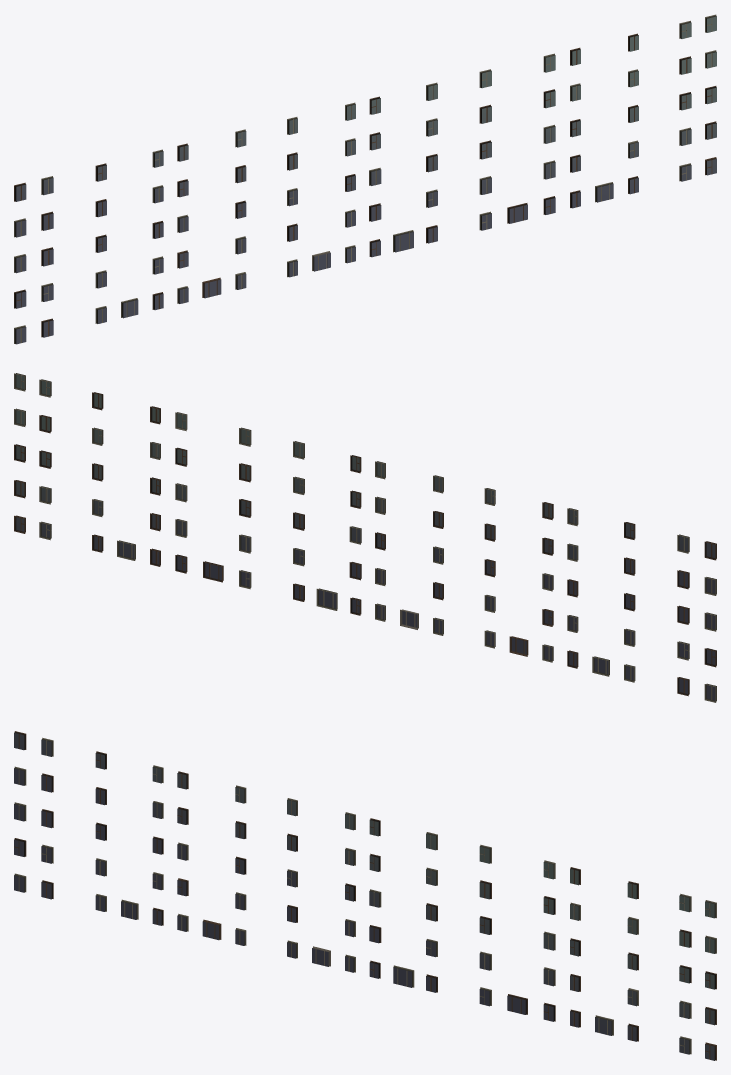
The model's file is Windows Hr.fbx.
3 renders of one model, top to bottom at view 1: azimuth 30°, elevation 25°; view 2: azimuth 150°, elevation 25°; view 3: azimuth 330°, elevation 25°, orthographic.
Parts seen in each view (by area): view 1: Starie Rami_; view 2: Starie Rami_; view 3: Starie Rami_.
Part boxes in pixels (x1,y1,x2,y2): Starie Rami_: (14, 14, 716, 344); Starie Rami_: (14, 373, 716, 702); Starie Rami_: (14, 731, 716, 1060).
Bounding box in the file's own units: 15062 × 3264 × 59.74.
